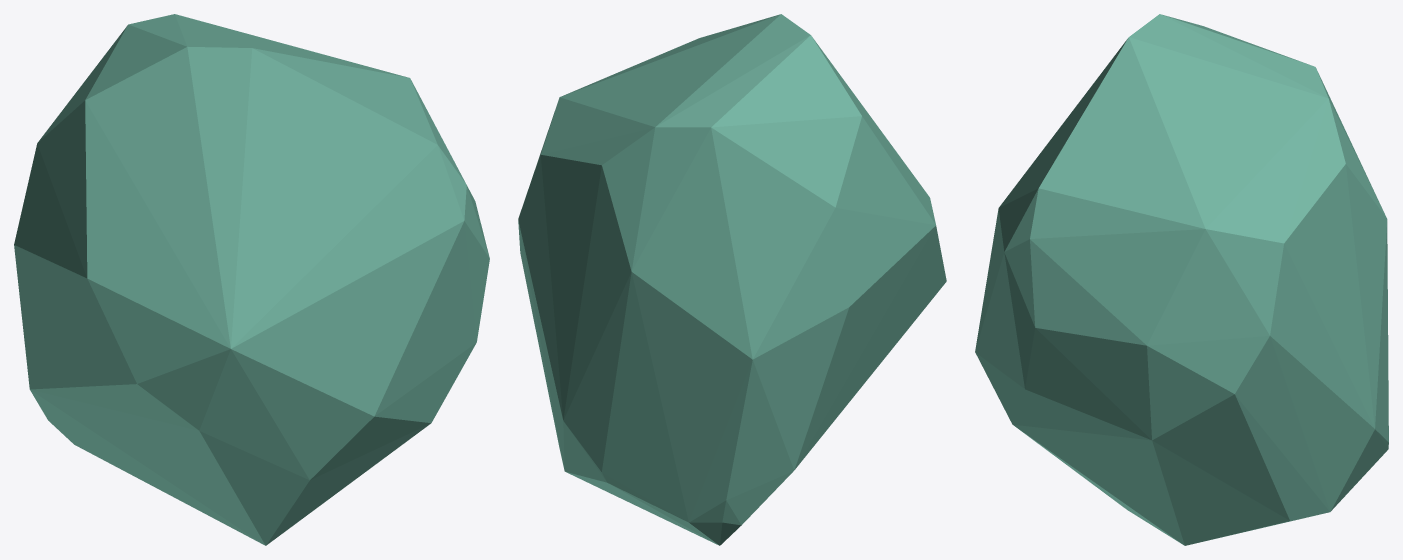
File: food_produce_potato_a01.glb
3 views of the same model, side by side, from view 1: azimuth 30°, elevation 25°; view 2: azimuth 150°, elevation 25°; view 3: azimuth 270°, elevation 25° (orthographic). The views are drawn at different scales.
Parts seen in each view (by area): view 1: geometry_0; view 2: geometry_0; view 3: geometry_0.
Part boxes in pixels (x1,y1,x2,y2): geometry_0: (14, 14, 489, 545); geometry_0: (518, 14, 946, 545); geometry_0: (975, 14, 1388, 545).
Size of the model in its own units: 0.3831 by 0.4648 by 0.3687.
